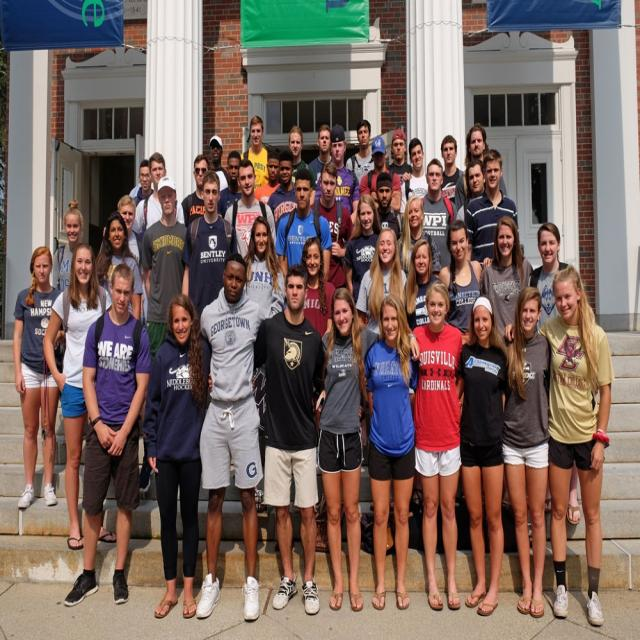body: (314, 281, 426, 615), (182, 248, 280, 624), (59, 260, 152, 609), (537, 262, 617, 627), (250, 263, 329, 618), (42, 240, 117, 552), (142, 293, 213, 620), (454, 292, 512, 617), (364, 293, 421, 614), (409, 278, 464, 610), (502, 284, 554, 620), (137, 172, 191, 494), (527, 222, 581, 526), (10, 242, 70, 512), (102, 150, 187, 325), (272, 165, 334, 310), (180, 170, 240, 316), (479, 213, 535, 350), (437, 217, 495, 349), (464, 148, 520, 267), (354, 226, 410, 340), (306, 160, 354, 290), (222, 156, 276, 261), (95, 210, 144, 323), (453, 122, 508, 222), (314, 122, 362, 226), (342, 192, 383, 307), (242, 214, 286, 318), (420, 158, 458, 276), (396, 193, 444, 280), (403, 236, 444, 333), (300, 236, 336, 340), (358, 134, 403, 214), (179, 152, 226, 228), (50, 196, 86, 292), (265, 148, 299, 231), (239, 113, 271, 193), (116, 193, 144, 278), (400, 136, 430, 215), (454, 158, 487, 228), (344, 117, 376, 189), (372, 171, 404, 242), (116, 194, 142, 268), (440, 134, 466, 206), (216, 148, 242, 218), (307, 123, 334, 187), (254, 145, 282, 206), (288, 125, 314, 188), (384, 128, 414, 181), (208, 133, 230, 192), (133, 158, 154, 208), (125, 178, 148, 198)
